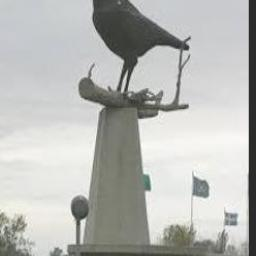Crow: (73, 0, 191, 101)
